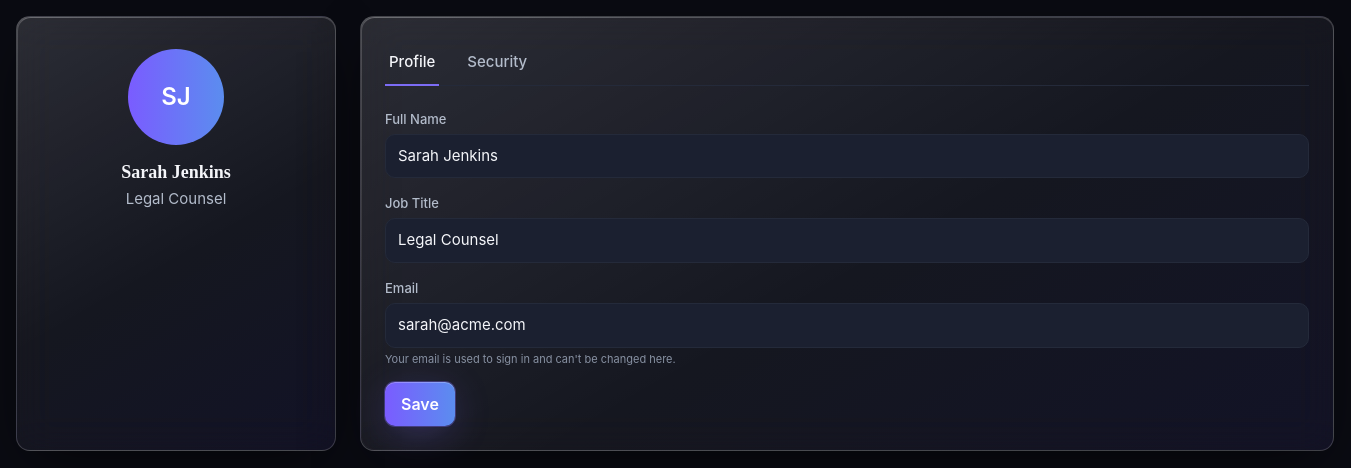
Test: AccountSettingsView (spec 023 AC-9..12) › save_profile_calls_update_and_refreshes_shell
Replace the text in the field labelled "Full Name" with "Sarah J. Updated" at point(847, 156), box [385,134,1309,178]
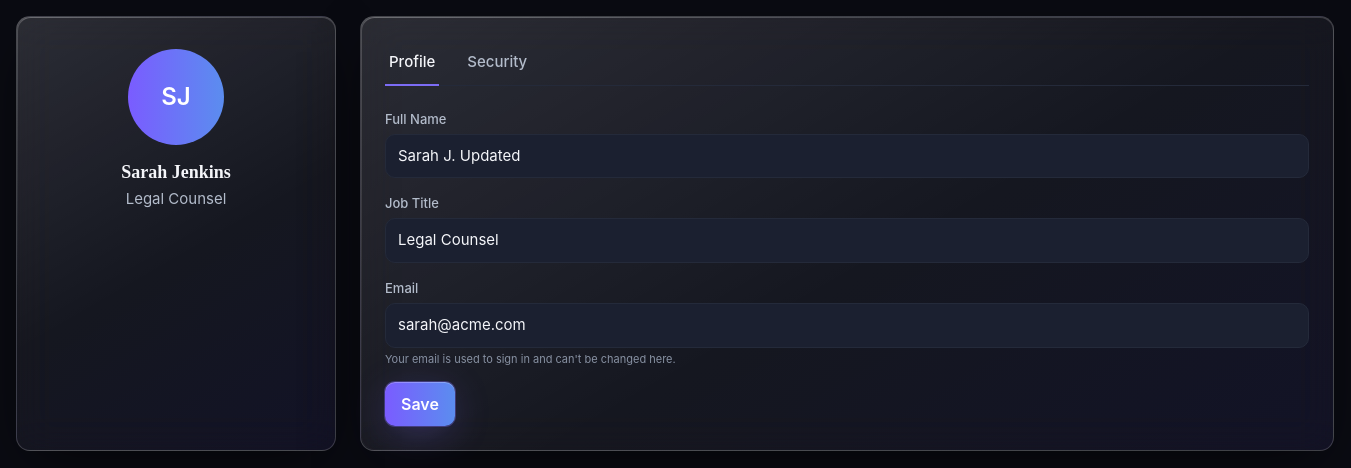
Click the button "Save" at point(420, 404), box [385,382,455,426]
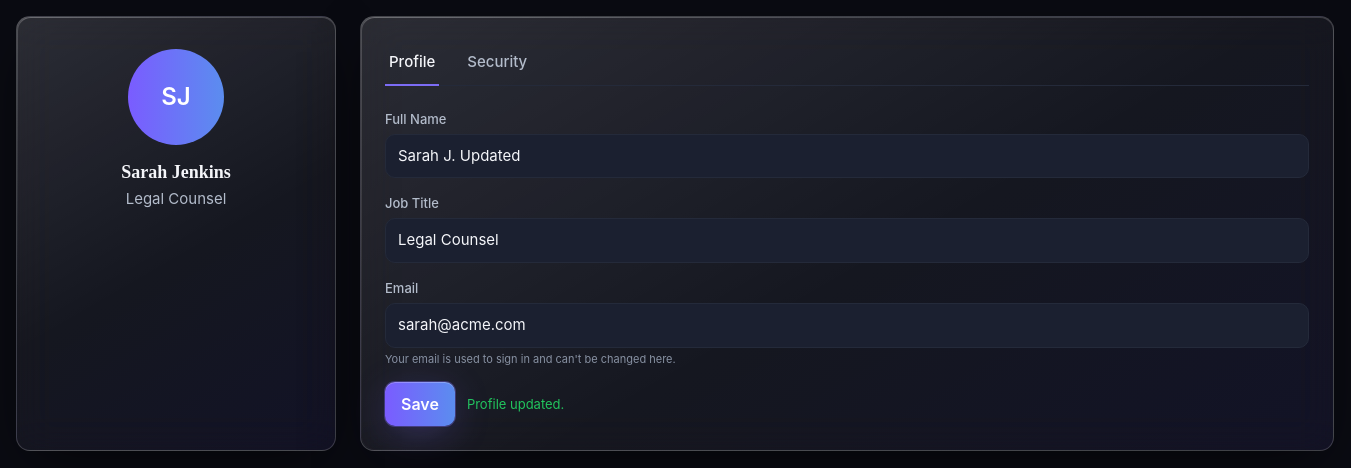
Check: the text "Profile updated." is shown, box [467,395,564,413]
